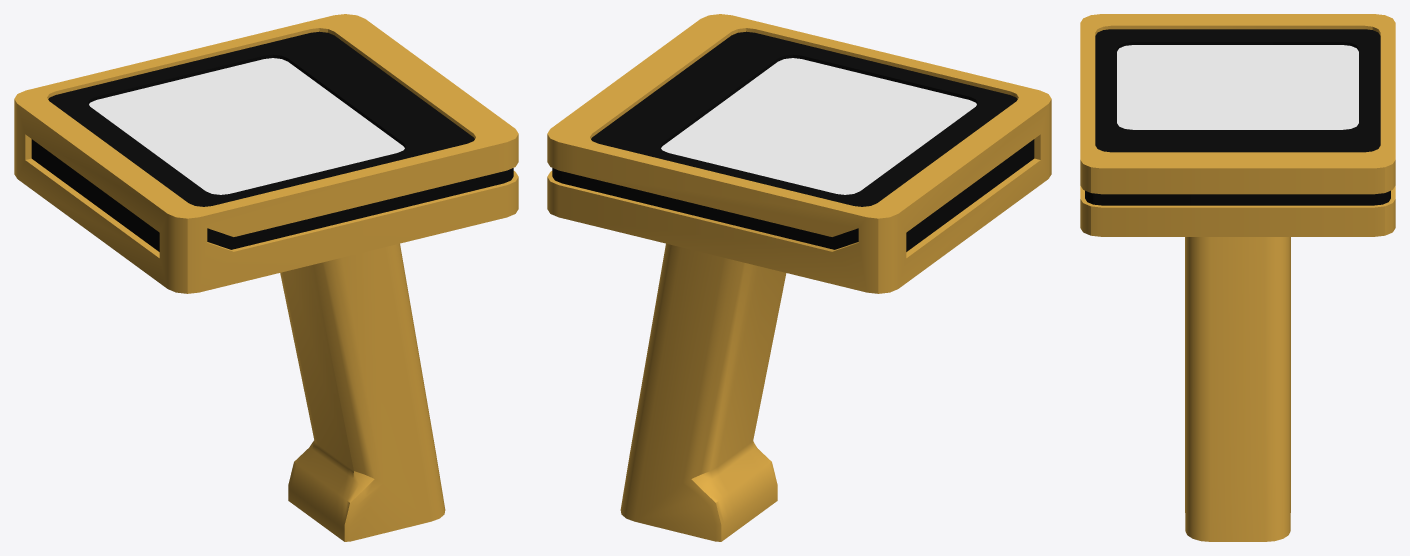
The model's file is scanner.fbx.
3 views of the same model, side by side, from view 1: azimuth 30°, elevation 25°; view 2: azimuth 150°, elevation 25°; view 3: azimuth 270°, elevation 25° (orthographic). The views are drawn at different scales.
Visible parts, largest first — view 1: Cube; view 2: Cube; view 3: Cube.
Part boxes in pixels (<box>): Cube: <box>14,14,518,541</box>; Cube: <box>547,14,1051,541</box>; Cube: <box>1080,14,1395,541</box>.
Bounding box in the file's own units: 232 × 266 × 200.
